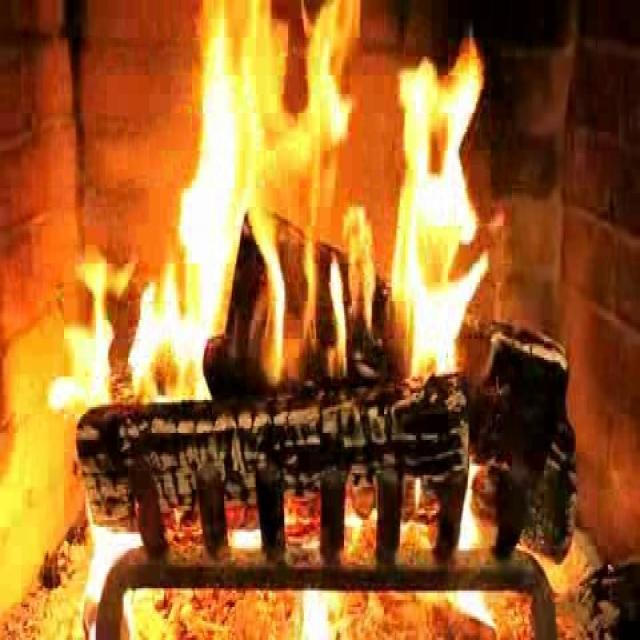Fire: (148, 1, 488, 408)
